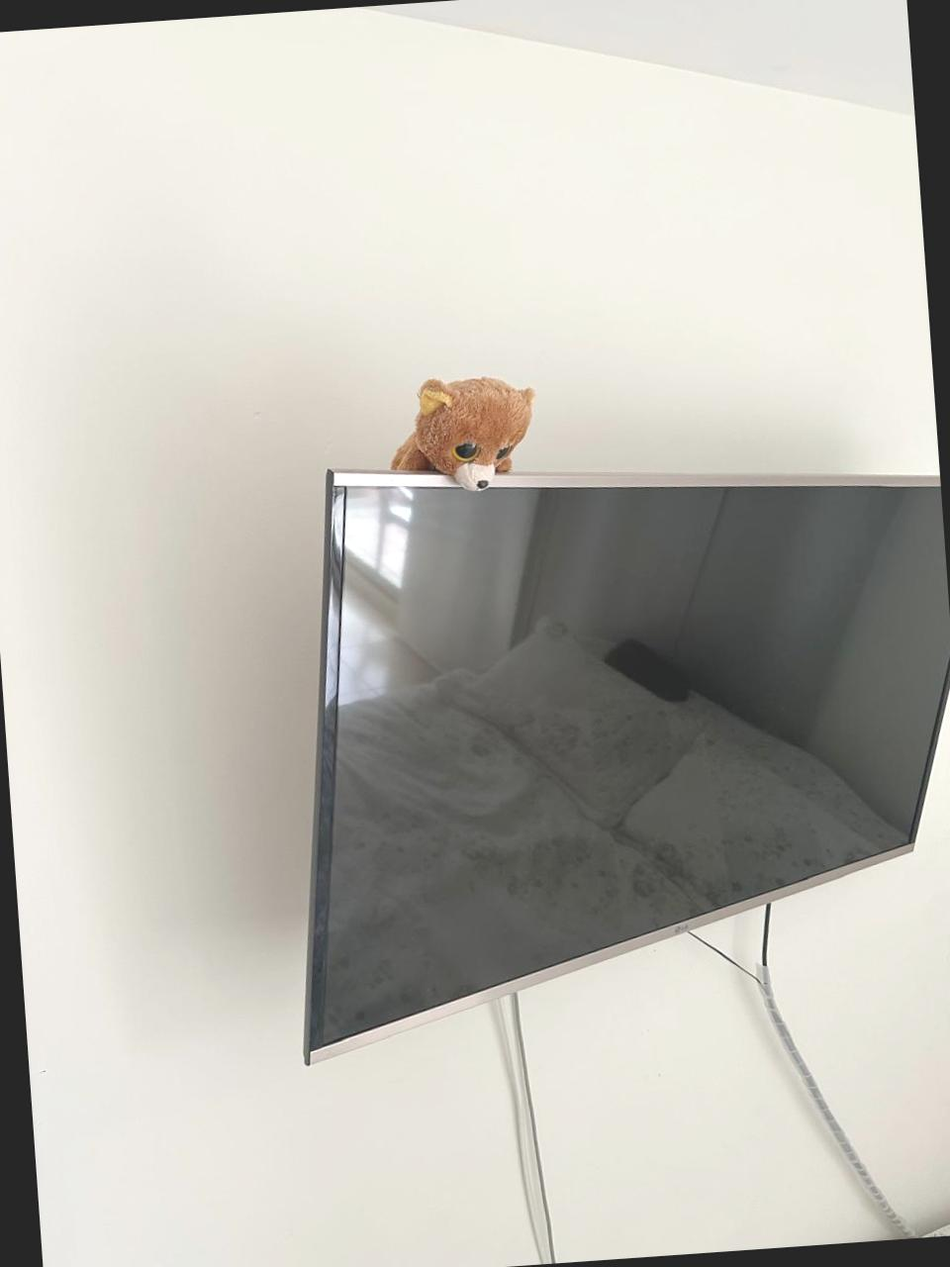peluche_sebastian: (372, 349, 549, 496)
